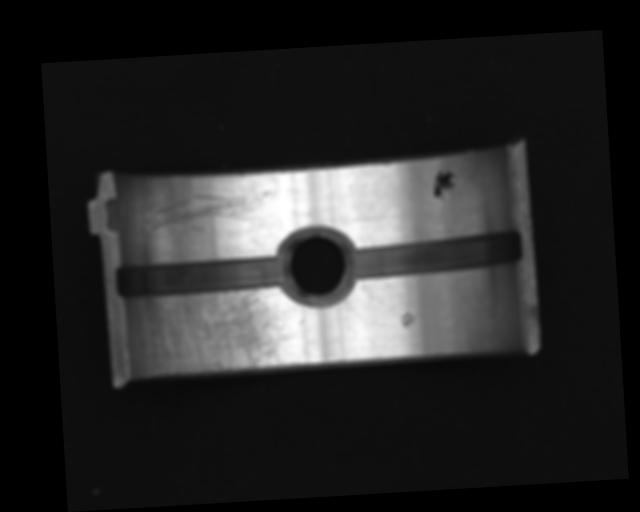blot: (431, 166, 459, 201)
bruise: (399, 310, 418, 330)
gap: (345, 232, 525, 279), (113, 252, 288, 300)
hole: (275, 224, 358, 305)
nick: (149, 187, 277, 236), (342, 297, 369, 328)
scratch: (131, 284, 310, 379)
